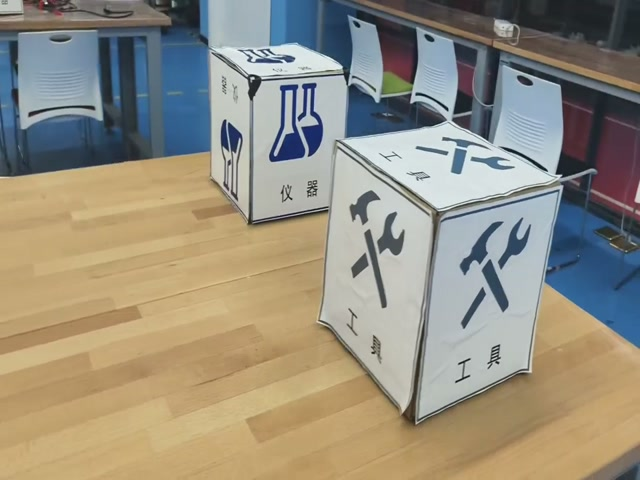Cube_ins: (211, 44, 343, 83)
Cube_tool: (336, 123, 561, 212)
